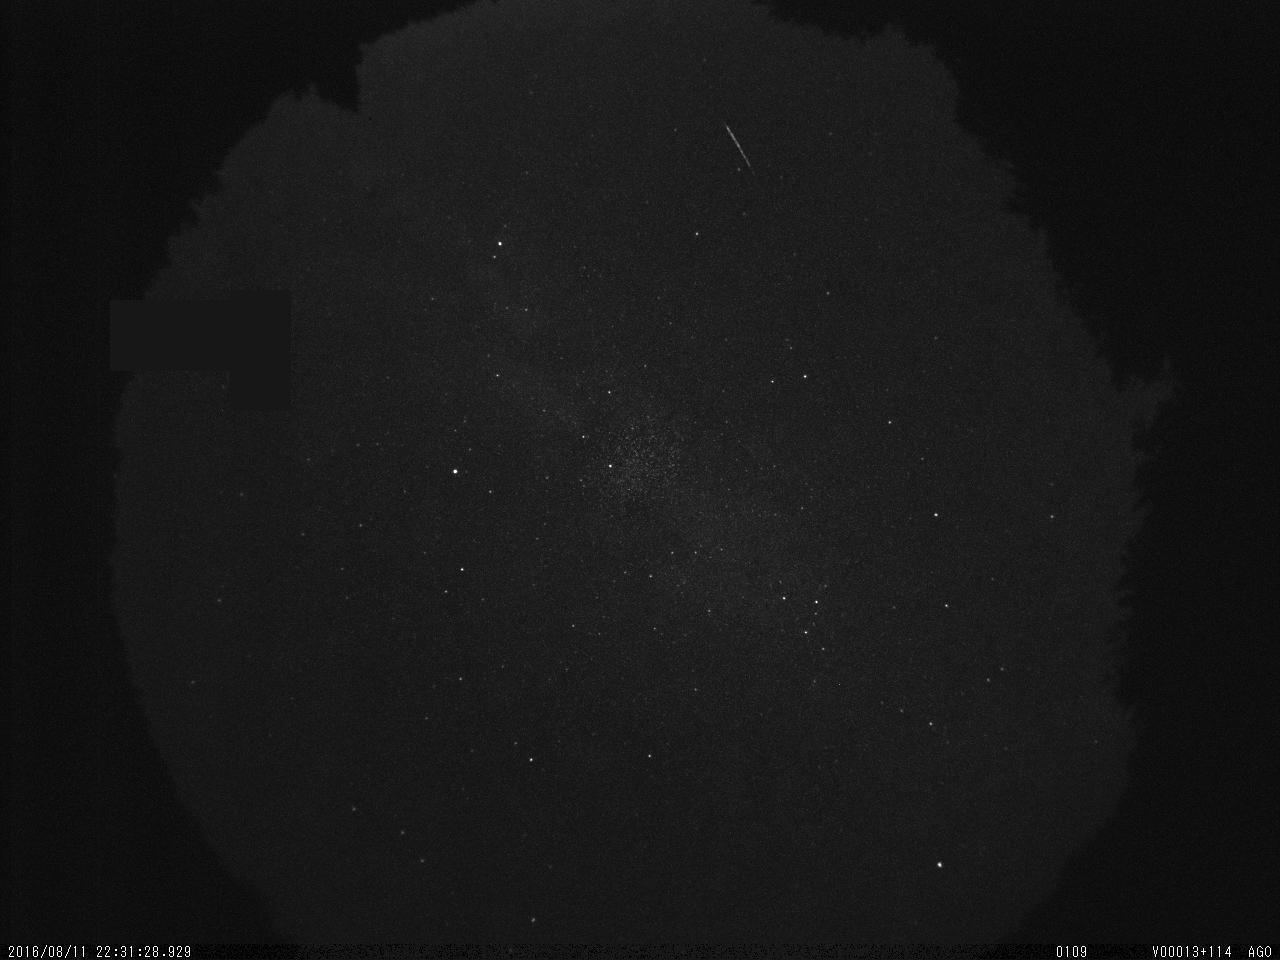Meteor: (721, 119, 756, 176)
